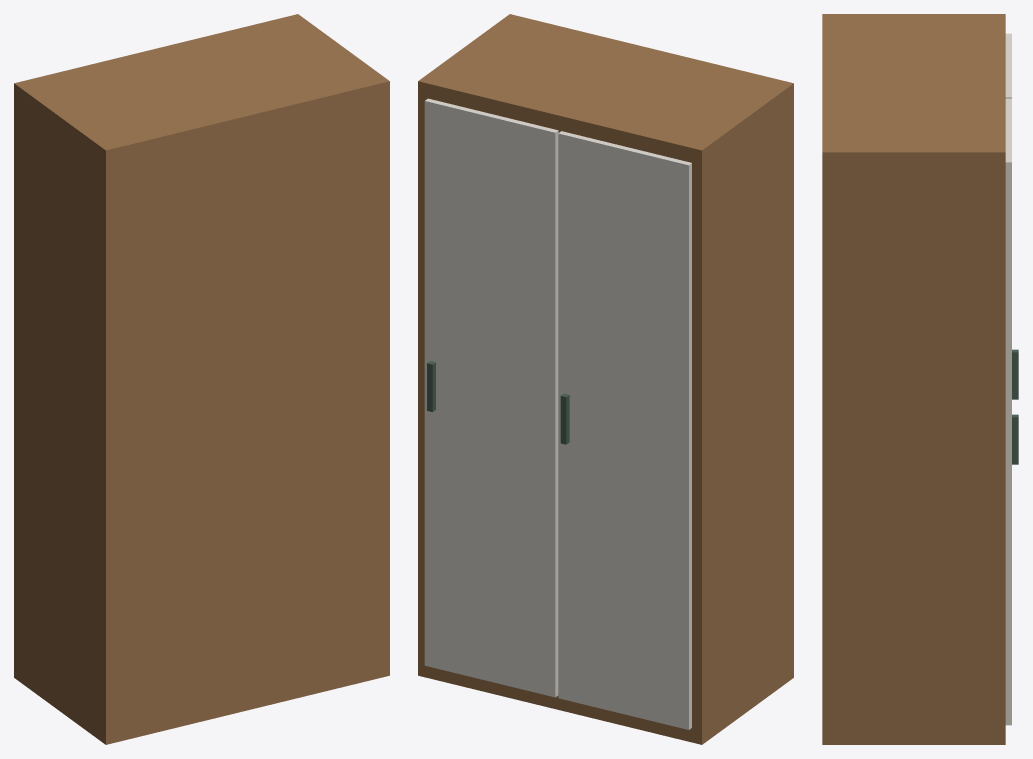
3 renders of one model, left to right at view 1: azimuth 30°, elevation 25°; view 2: azimuth 150°, elevation 25°; view 3: azimuth 270°, elevation 25°, orthographic.
Parts seen in each view (by area): view 1: body; view 2: body, door-1, door-0; view 3: body, door-1, door-0, handle-0, handle-1.
Part boxes in pixels (x1=…): body: x1=14, y1=14, x2=389, y2=744; body: x1=418, y1=14, x2=793, y2=744; door-1: x1=424, y1=98, x2=558, y2=697; door-0: x1=558, y1=131, x2=691, y2=729; body: x1=822, y1=14, x2=1005, y2=744; door-1: x1=1005, y1=98, x2=1011, y2=725; door-0: x1=1005, y1=33, x2=1011, y2=98; handle-0: x1=1012, y1=349, x2=1018, y2=399; handle-1: x1=1012, y1=414, x2=1018, y2=464.
Size of the model in its own units: 1 by 2 by 0.6.
